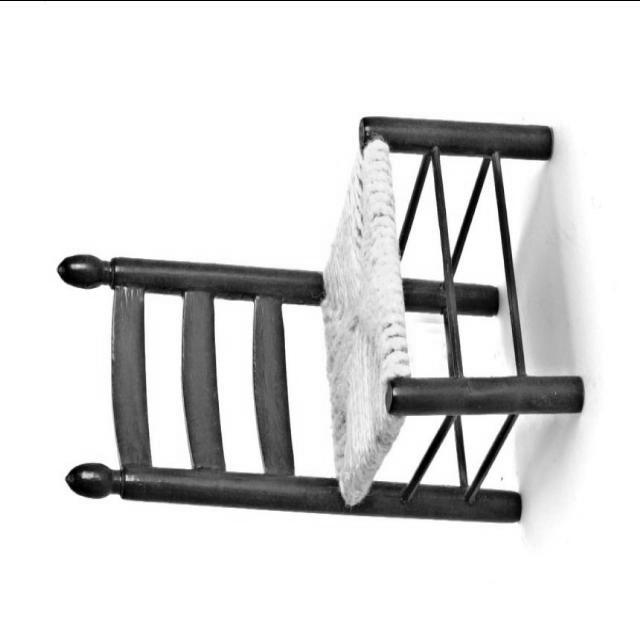chair: (55, 114, 586, 525)
